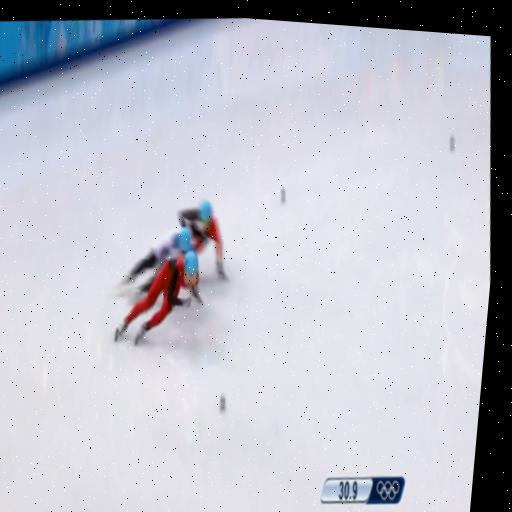Skater: (115, 251, 202, 343), (121, 227, 194, 293), (179, 200, 226, 279)
